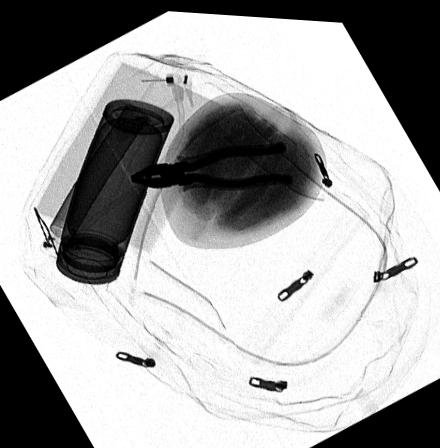Pliers: (127, 136, 293, 187)
